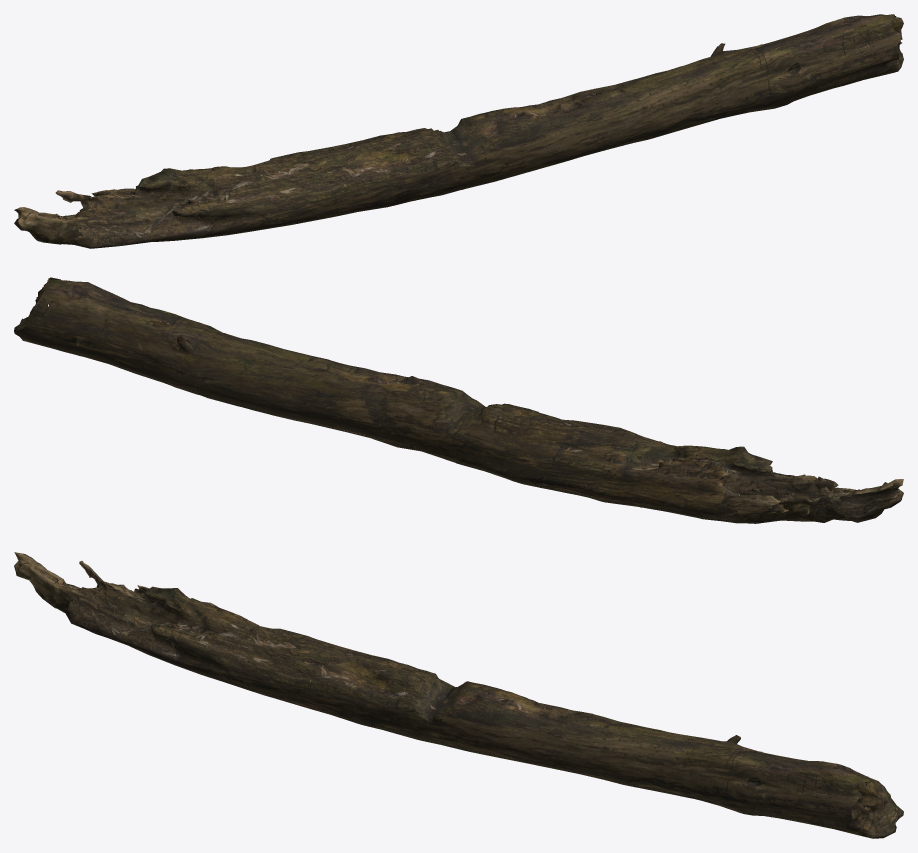
The model's file is log_thin.glb.
3 views of the same model, one above another, from view 1: azimuth 30°, elevation 25°; view 2: azimuth 150°, elevation 25°; view 3: azimuth 330°, elevation 25° (orthographic).
Visible parts, largest first — view 1: log_thin; view 2: log_thin; view 3: log_thin.
Part boxes in pixels (x1=…): log_thin: x1=14, y1=14, x2=903, y2=248; log_thin: x1=14, y1=277, x2=903, y2=523; log_thin: x1=14, y1=552, x2=903, y2=838.
Bounding box in the file's own units: 3.05 × 0.288 × 0.2759.
Materials: 1 (1 with a texture image).
